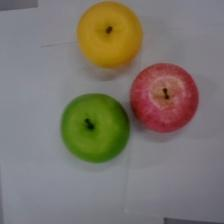green: (61, 93, 130, 162)
red: (131, 63, 198, 133)
yellow: (77, 2, 143, 69)
